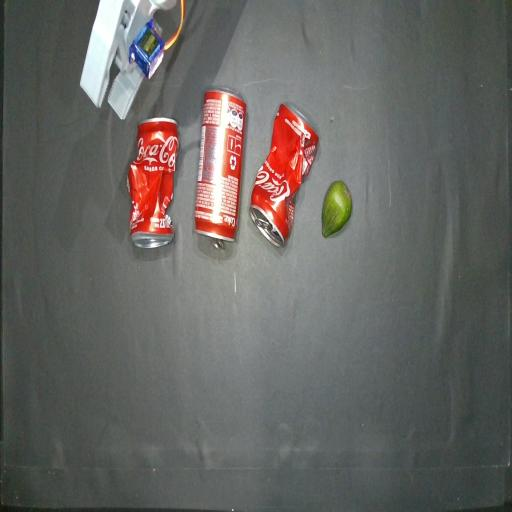higo: (322, 181, 352, 238)
lata: (195, 89, 247, 248)
lata_defectuoso: (250, 104, 318, 246), (127, 118, 179, 248)
